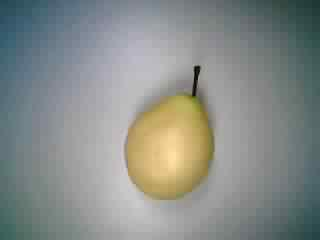pear: (111, 50, 230, 208)
